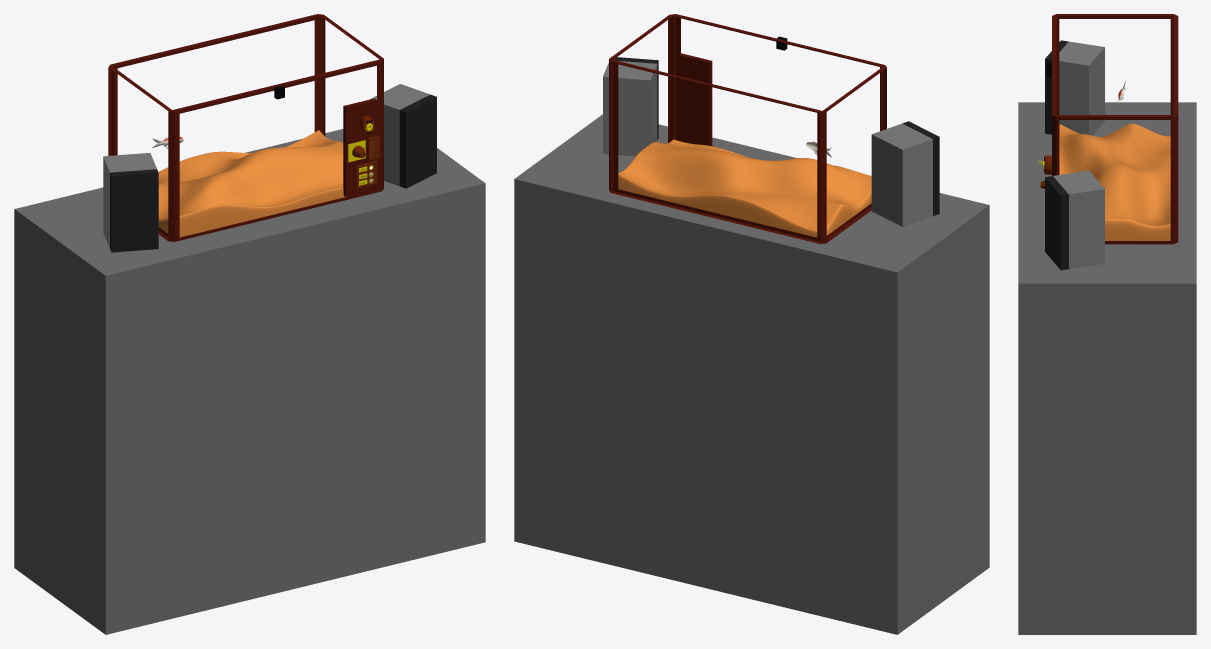
Rendered from modelA.glb.
The picture shows the model from 3 angles, left to right: view 1: azimuth 30°, elevation 25°; view 2: azimuth 150°, elevation 25°; view 3: azimuth 270°, elevation 25°; orthographic projection. The views are drawn at different scales.
Parts seen in each view (by area): view 1: DasDingWoraufDasAquariumSteht, Sand, Lautsprecher_links, Lautsprecher_links.001, Gehäuse_Front, Gehäuse_Hinten, Armatur, Gehäuse_Seite1, Gehäuse_Ecke4; view 2: DasDingWoraufDasAquariumSteht, Sand, Lautsprecher_links, Lautsprecher_links.001, Gehäuse_Hinten, Armatur, Gehäuse_Front, Gehäuse_Ecke3, Gehäuse_Seite2, Gehäuse_Ecke1; view 3: DasDingWoraufDasAquariumSteht, Sand, Lautsprecher_links.001, Lautsprecher_links, Gehäuse_Seite1, Gehäuse_Seite2, Gehäuse_Ecke2, Gehäuse_Hinten, Gehäuse_Front, Gehäuse_Ecke1.
Part boxes in pixels (x1,y1,x2,y2): DasDingWoraufDasAquariumSteht: (14, 129, 485, 634); Sand: (158, 130, 345, 237); Lautsprecher_links: (103, 153, 158, 252); Lautsprecher_links.001: (370, 84, 436, 188); Gehäuse_Front: (172, 59, 381, 241); Gehäuse_Hinten: (110, 14, 319, 155); Armatur: (343, 98, 376, 196); Gehäuse_Seite1: (320, 15, 383, 188); Gehäuse_Ecke4: (168, 110, 174, 241); DasDingWoraufDasAquariumSteht: (514, 114, 989, 634); Sand: (618, 139, 871, 237); Lautsprecher_links: (871, 121, 939, 226); Lautsprecher_links.001: (603, 56, 658, 156); Gehäuse_Hinten: (611, 60, 821, 243); Armatur: (678, 53, 712, 146); Gehäuse_Front: (673, 14, 884, 140); Gehäuse_Ecke3: (820, 111, 826, 243); Gehäuse_Seite2: (823, 67, 886, 242); Gehäuse_Ecke1: (669, 14, 675, 142); DasDingWoraufDasAquariumSteht: (1018, 102, 1196, 634); Sand: (1059, 123, 1170, 240); Lautsprecher_links.001: (1045, 170, 1104, 270); Lautsprecher_links: (1045, 40, 1104, 135); Gehäuse_Seite1: (1056, 115, 1173, 244); Gehäuse_Seite2: (1056, 14, 1173, 114); Gehäuse_Ecke2: (1173, 115, 1178, 243); Gehäuse_Hinten: (1173, 16, 1178, 114); Gehäuse_Front: (1052, 16, 1056, 114); Gehäuse_Ecke1: (1052, 115, 1056, 175).
Size of the model in its own units: 18.32 by 22.57 by 7.63.
Materials: 19 (1 with a texture image).
